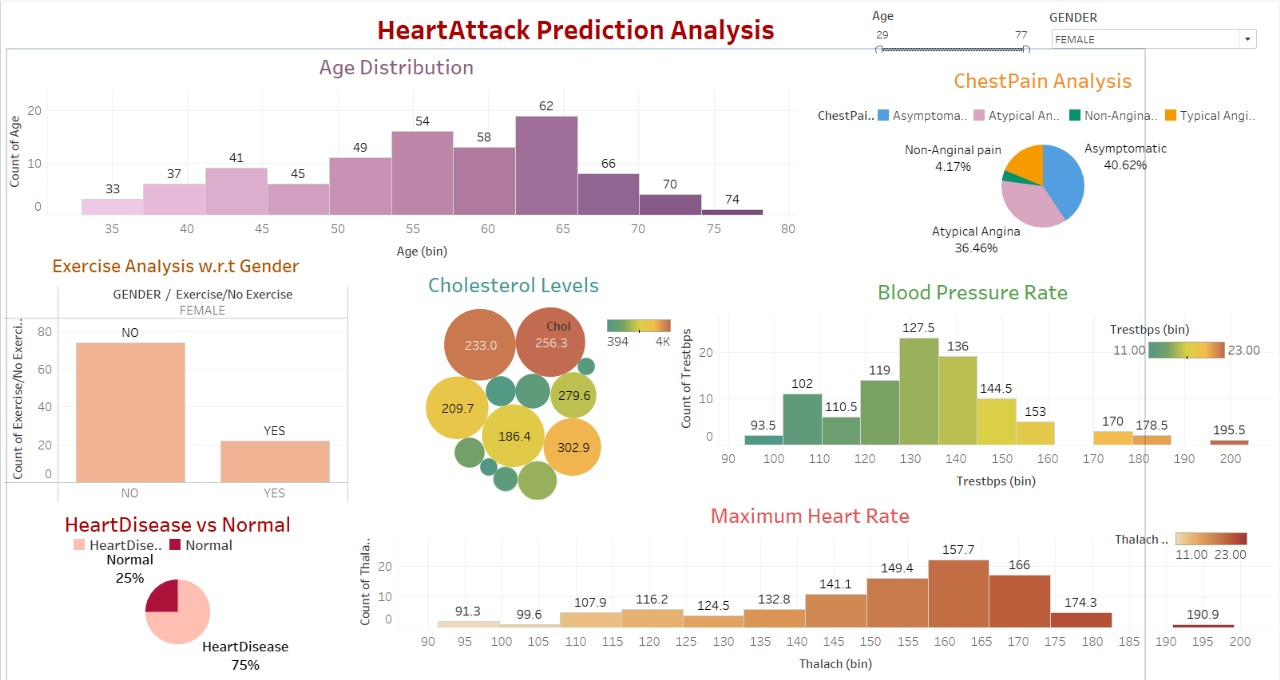

The page's visual inventory and layout, read from the dashboard file:
{"tool":"tableau","page":{"name":"Dashboard 1","canvas":[1600,950],"ordinal":0},"visuals":[{"type":"title","box":[9,9,1061,46]},{"type":"filter","title":"Exercise Analysis w.r.t Gender","param":"[federated.07r50vy06r3fo514dh0j503q7zvt].[none:Calculation_601230577665310721:nk","box":[1358,12,239,58]},{"type":"filter","title":"Blood Pressure Rate","param":"[federated.07r50vy06r3fo514dh0j503q7zvt].[none:age:qk]","box":[1072,13,260,60]},{"type":"worksheet","title":"ChestPain Analysis","mark":"Pie","box":[1013,78,584,258]},{"type":"legend","title":"ChestPain Analysis","param":"[federated.07r50vy06r3fo514dh0j503q7zvt].[none:Calculation_601230577695178756:nk","box":[1023,133,568,30]},{"type":"worksheet","title":"Exercise Analysis w.r.t Gender","mark":"Automatic","rows":["Calculation_601230577664520192"],"cols":["Calculation_601230577665310721","Calculation_601230577664520192"],"box":[3,327,432,302]},{"type":"worksheet","title":"Cholesterol Levels","mark":"Circle","box":[440,334,404,291]},{"type":"worksheet","title":"Blood Pressure Rate","mark":"Automatic","rows":["trestbps"],"cols":["Trestbps (bin)"],"box":[858,343,736,276]},{"type":"legend","title":"Cholesterol Levels","param":"[federated.07r50vy06r3fo514dh0j503q7zvt].[sum:chol:qk]","box":[761,382,68,66]},{"type":"legend","title":"Blood Pressure Rate","param":"[federated.07r50vy06r3fo514dh0j503q7zvt].[none:Trestbps (bin):qk]","box":[1425,395,141,65]},{"type":"worksheet","title":"Maximum Heart Rate","mark":"Automatic","rows":["thalach"],"cols":["Thalach (bin)"],"box":[438,623,1156,225]},{"type":"worksheet","title":"HeartDisease vs Normal","mark":"Pie","box":[2,634,439,213]},{"type":"legend","title":"Maximum Heart Rate","param":"[federated.07r50vy06r3fo514dh0j503q7zvt].[none:Thalach (bin):qk]","box":[1395,662,170,45]}]}

Visuals, with their boxes on the page's 1600x950 design canvas (x1, y1, x2, y2). These are canvas units, not pixel positions in the 1280x680 screenshot, which may show the page scaled, cropped or inside an application window:
title: 9/9/1070/55
"Exercise Analysis w.r.t Gender" filter: 1358/12/1597/70
"Blood Pressure Rate" filter: 1072/13/1332/73
"ChestPain Analysis" worksheet (Pie marks): 1013/78/1597/336
"ChestPain Analysis" legend: 1023/133/1591/163
"Exercise Analysis w.r.t Gender" worksheet: 3/327/435/629
"Cholesterol Levels" worksheet (Circle marks): 440/334/844/625
"Blood Pressure Rate" worksheet: 858/343/1594/619
"Cholesterol Levels" legend: 761/382/829/448
"Blood Pressure Rate" legend: 1425/395/1566/460
"Maximum Heart Rate" worksheet: 438/623/1594/848
"HeartDisease vs Normal" worksheet (Pie marks): 2/634/441/847
"Maximum Heart Rate" legend: 1395/662/1565/707
